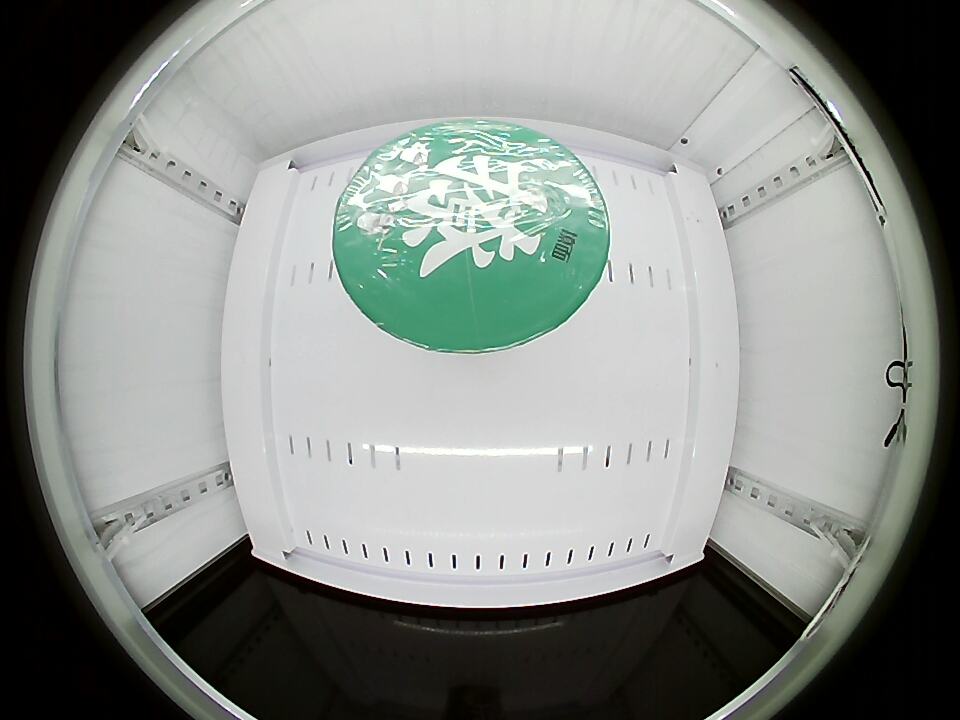liaomian: (333, 120, 610, 354)
